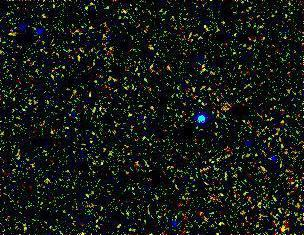star: (270, 212, 300, 235)
